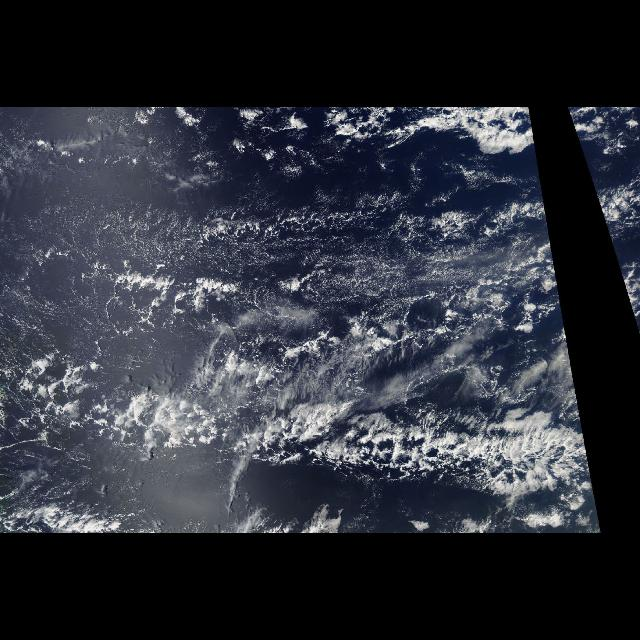Fish: (31, 332, 601, 524)
Sugar: (28, 180, 560, 314)
